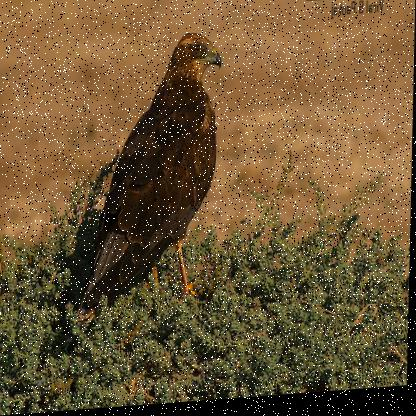Burung: (76, 32, 224, 316)
